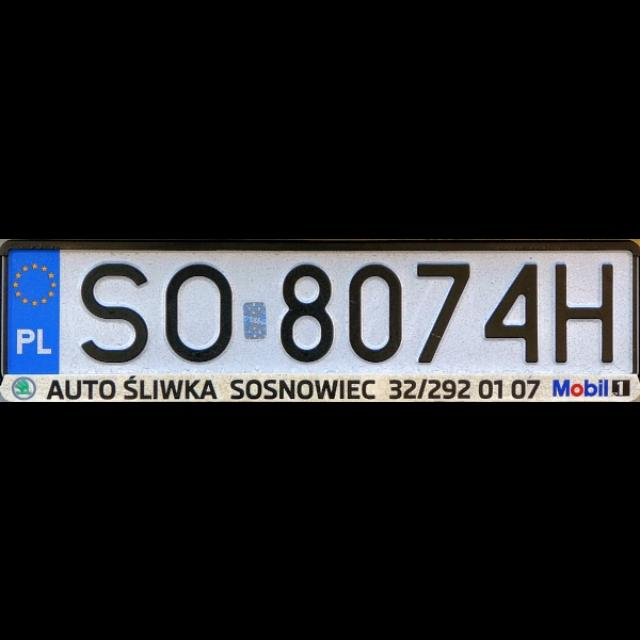pl_license_plate: (9, 250, 631, 372)
